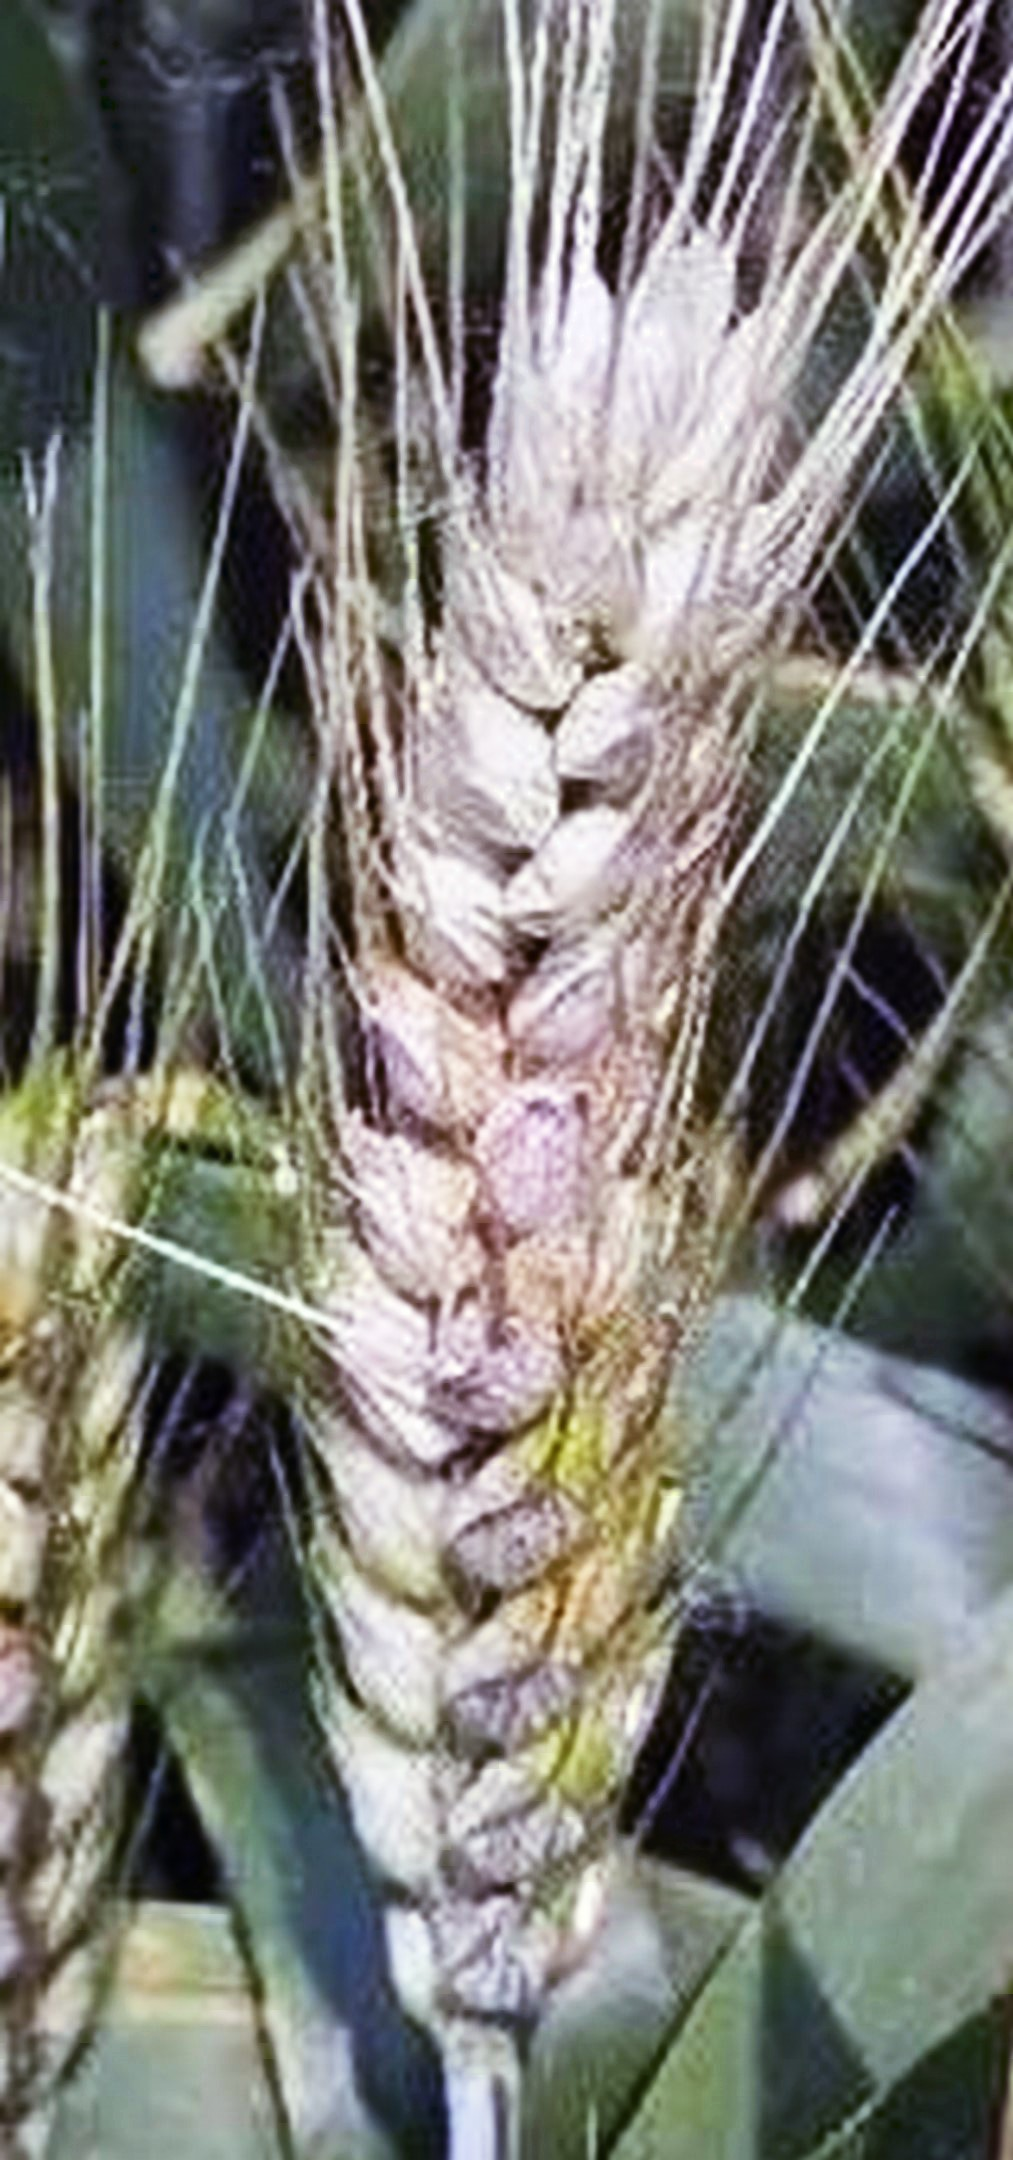Wheat scab: (296, 240, 837, 2080)
